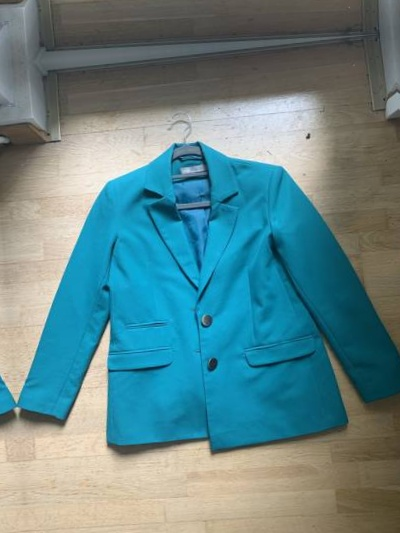Blazer: (6, 120, 400, 488), (0, 154, 13, 521)
